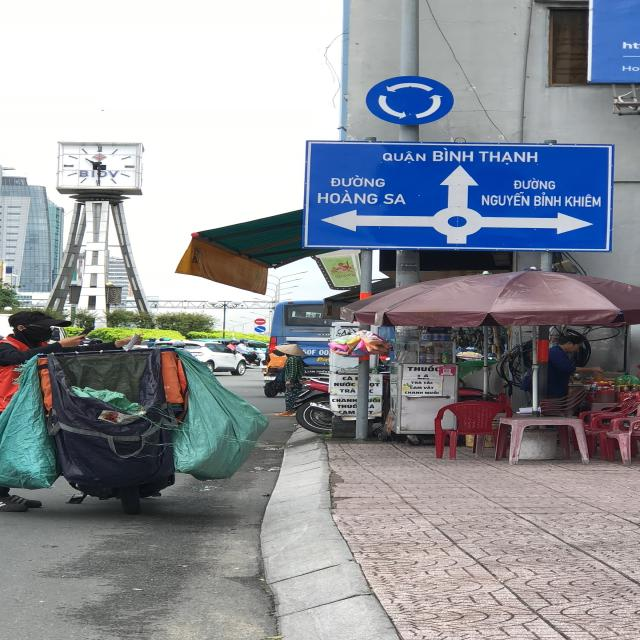Bien bao noi giao nhau chay theo vong xuyen: (364, 74, 462, 128)
